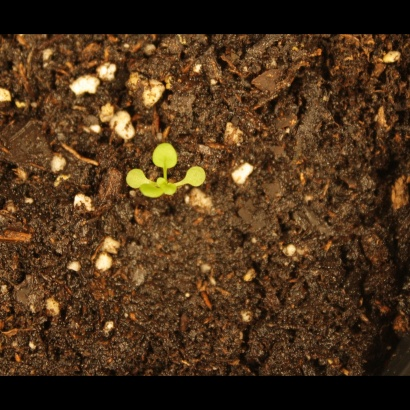leaf: (149, 141, 179, 172), (184, 164, 210, 191), (124, 166, 148, 190), (140, 182, 163, 205), (158, 175, 181, 198)
